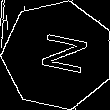N_W: (28, 30, 87, 80)
